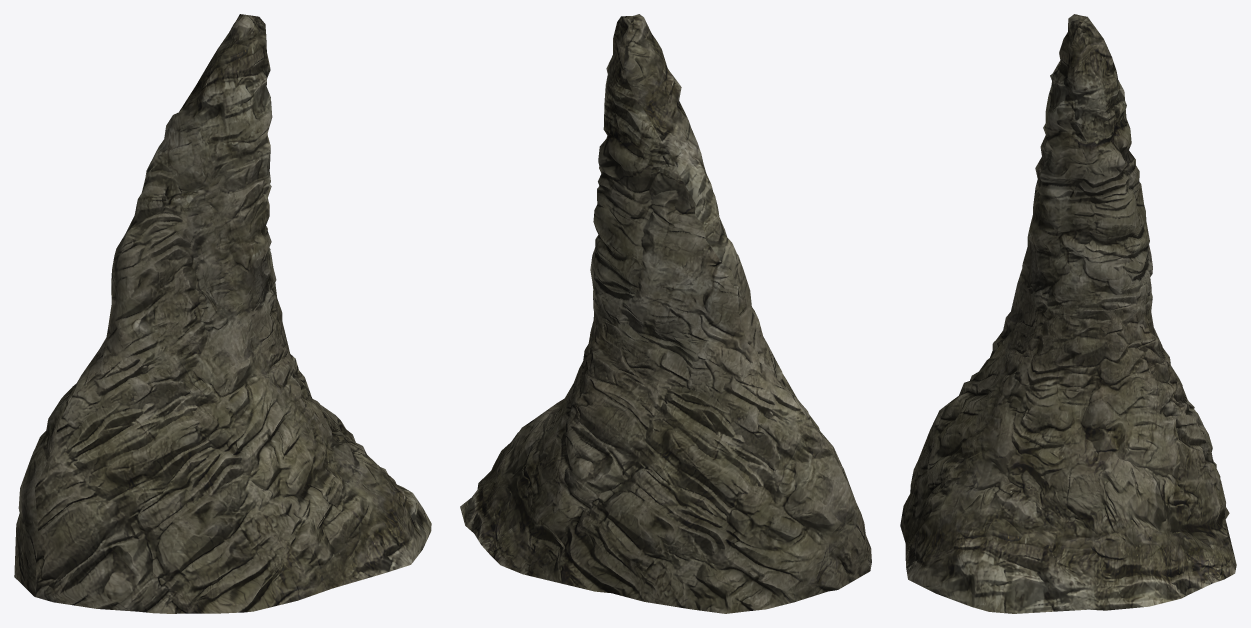
File: MEP_Cliff_19.fbx
3 views of the same model, side by side, from view 1: azimuth 30°, elevation 25°; view 2: azimuth 150°, elevation 25°; view 3: azimuth 270°, elevation 25° (orthographic). The views are drawn at different scales.
Parts seen in each view (by area): view 1: MEP_Desert_Cliff_19; view 2: MEP_Desert_Cliff_19; view 3: MEP_Desert_Cliff_19.
Part boxes in pixels (<box>): MEP_Desert_Cliff_19: <box>14,14,431,613</box>; MEP_Desert_Cliff_19: <box>460,14,871,613</box>; MEP_Desert_Cliff_19: <box>900,14,1236,613</box>.
Size of what is drawn, in the model's own units: 2981 by 4015 by 2266.
Materials: 1 (1 with a texture image).
